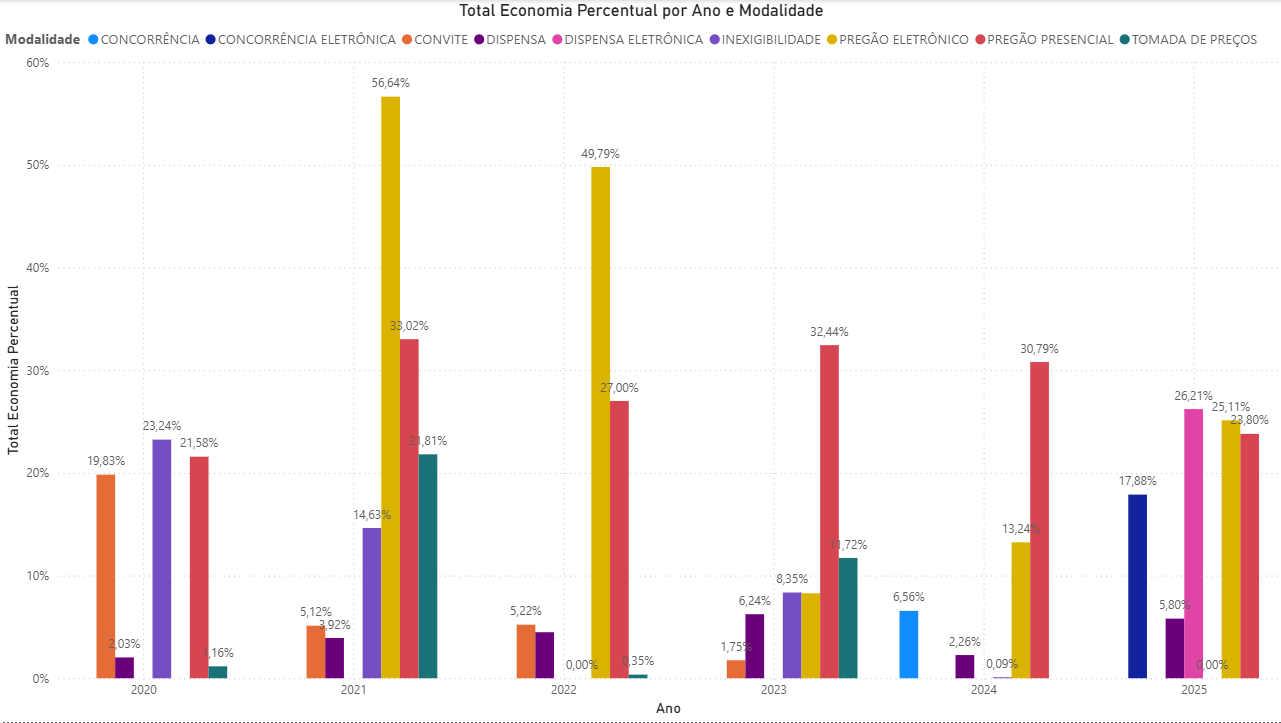

Layout of this report page (visuals, bound fields, positions):
{"tool":"powerbi","page":{"name":"Total Economia Percentual por Ano e Modalidade","canvas":[1280,720],"ordinal":0},"visuals":[{"type":"clusteredColumnChart","fields":{"Category":["Calendario.Ano"],"Series":["Licitações 2020 - 2025.Modalidade"],"Y":["Licitações 2020 - 2025.Total Economia Percentual"]},"box":[0,0,1279.7,720],"z":0}]}

Visuals, with their boxes in screenshot pixels (x1, y1, x2, y2), scaled from the page's 1280x720 canvas onto the 1281x723 screenshot:
clusteredColumnChart - Calendario.Ano x Licitações 2020 - 2025.Modalidade: box(0, 0, 1280, 722)
